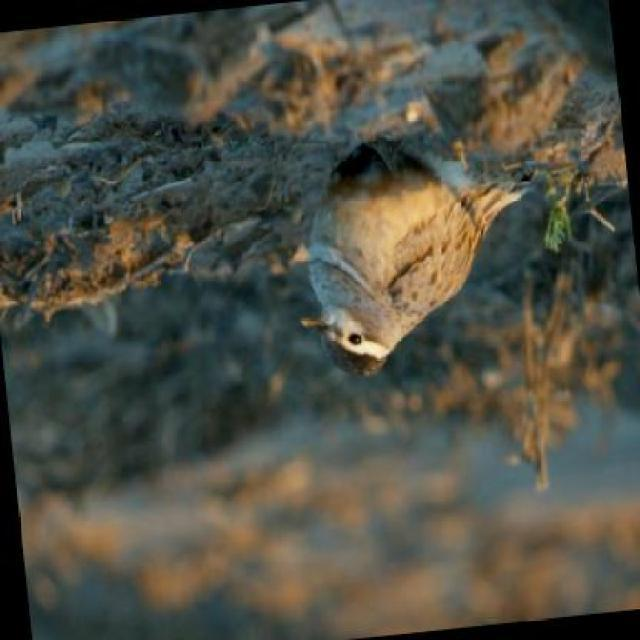Bird: (291, 137, 527, 373)
